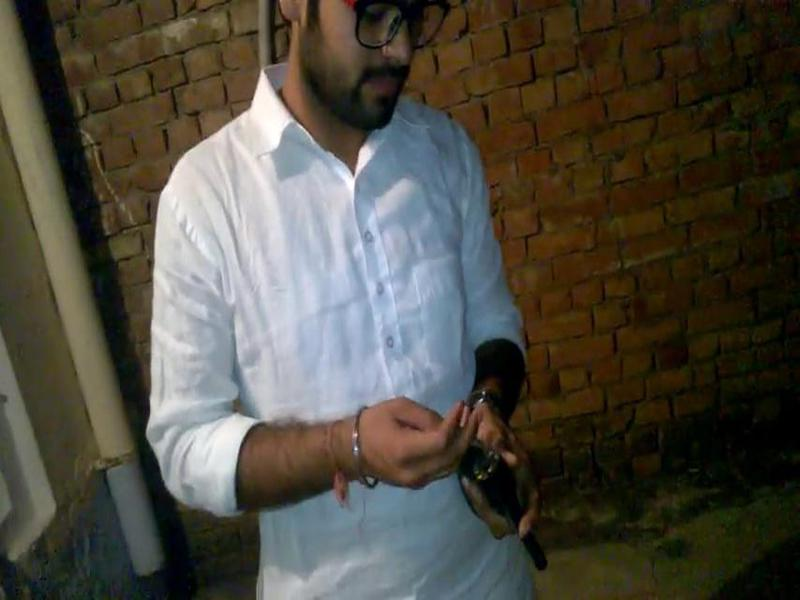Revolver: (437, 398, 575, 600)
